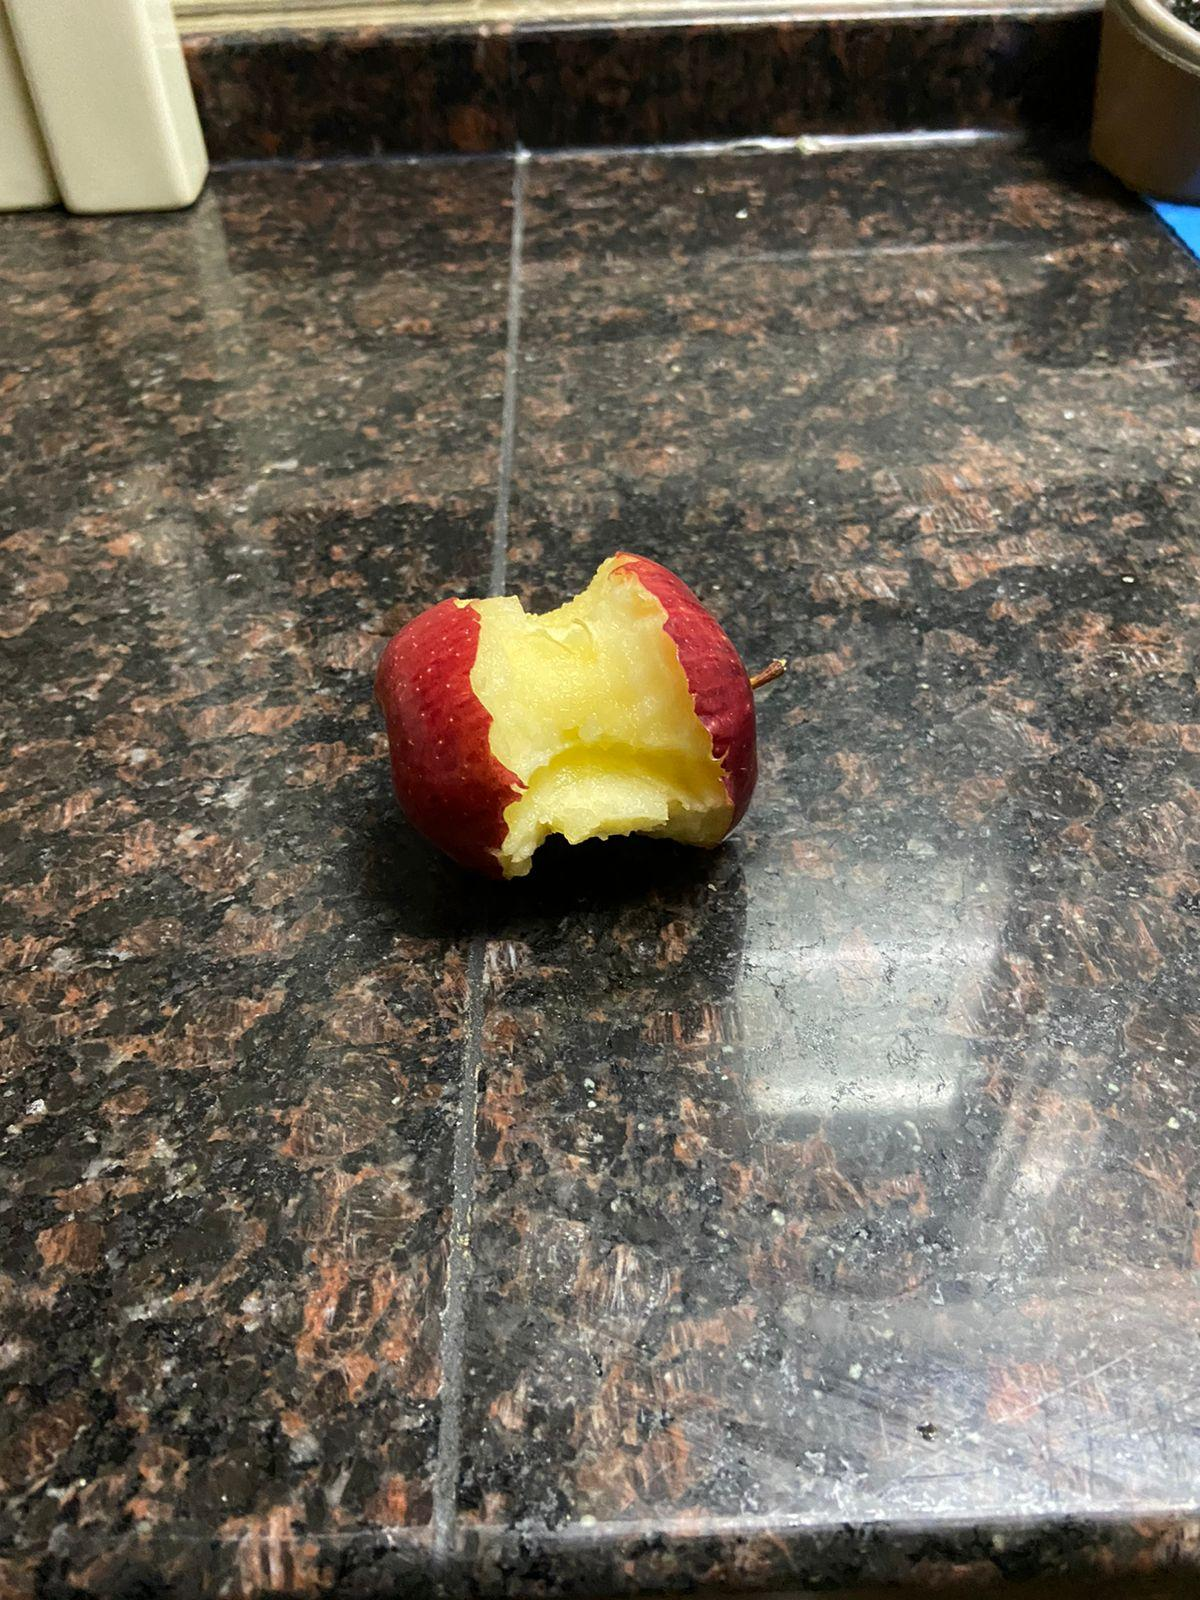Apple: (381, 547, 800, 916)
